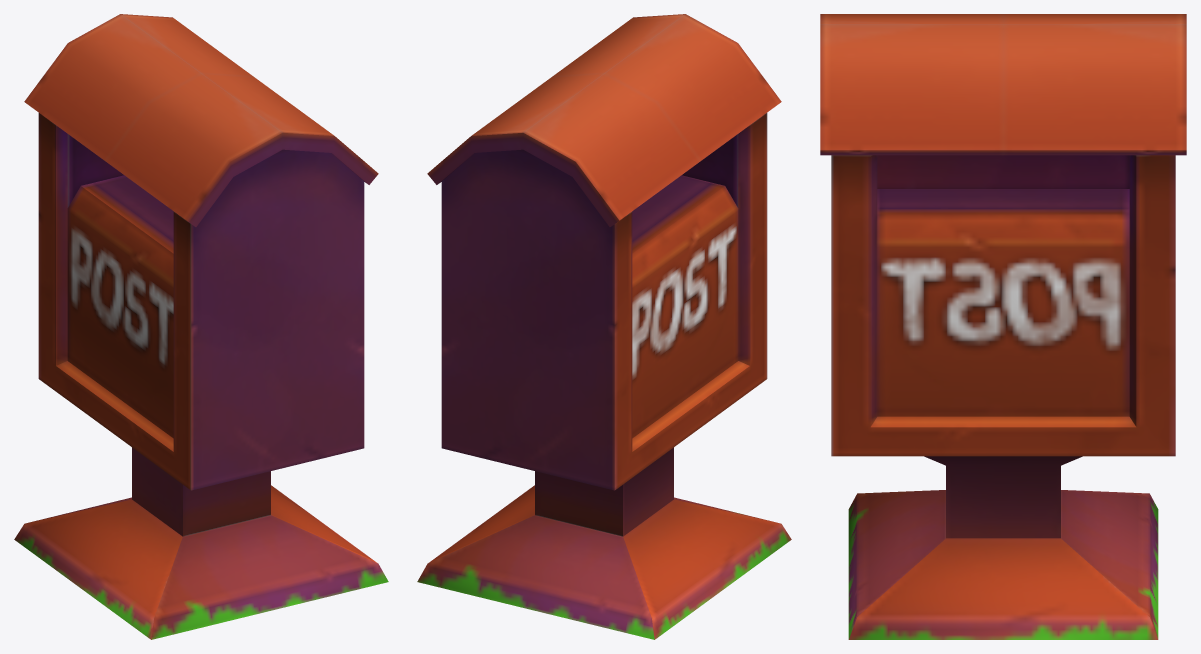
File: scenes_town_post01.FBX
The picture shows the model from 3 angles, left to right: view 1: azimuth 30°, elevation 25°; view 2: azimuth 150°, elevation 25°; view 3: azimuth 270°, elevation 25°; orthographic projection. The views are drawn at different scales.
Parts seen in each view (by area): view 1: scenes_town_post01; view 2: scenes_town_post01; view 3: scenes_town_post01.
Part boxes in pixels (left/top/right/bottom): scenes_town_post01: left=14, top=14, right=388, bottom=639; scenes_town_post01: left=417, top=14, right=791, bottom=639; scenes_town_post01: left=820, top=14, right=1186, bottom=639.
Bounding box in the file's own units: 173 × 339 × 204.
